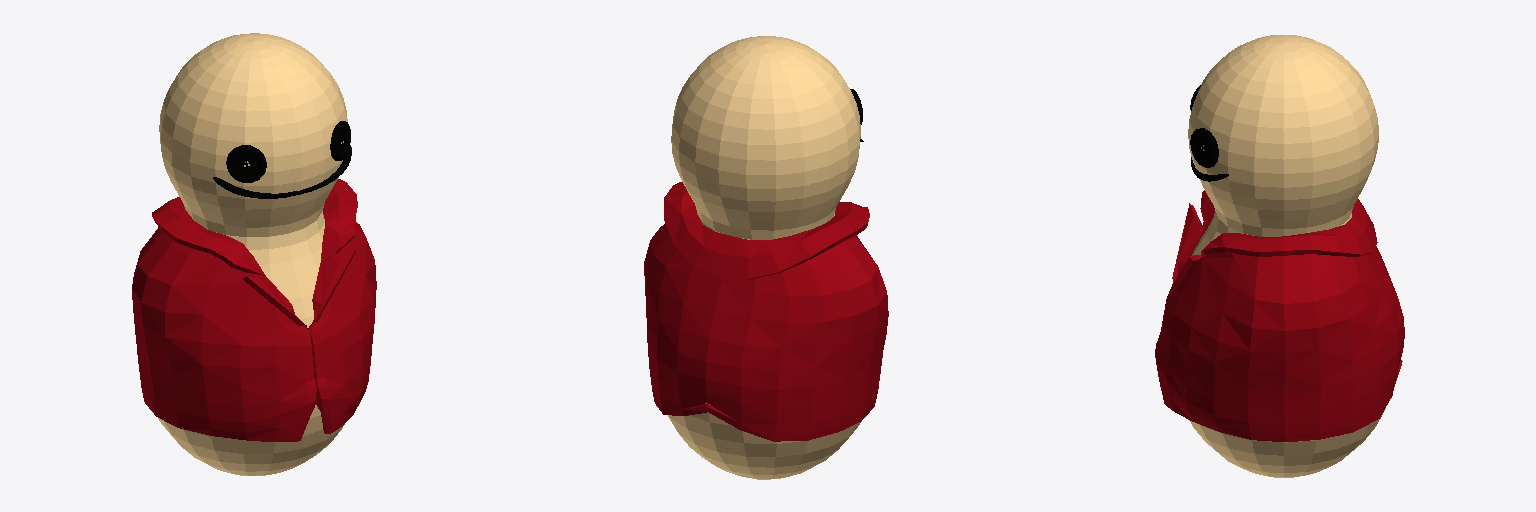
Rendered from suit-red.obj.
The picture shows the model from 3 angles: view 1: azimuth 30°, elevation 25°; view 2: azimuth 150°, elevation 25°; view 3: azimuth 270°, elevation 25°; orthographic projection.
Visible parts, largest first — view 1: suit_Sphere.001, agent.001_Sphere.000; view 2: suit_Sphere.001, agent.001_Sphere.000; view 3: suit_Sphere.001, agent.001_Sphere.000.
Part boxes in pixels (left/top/right/bottom): suit_Sphere.001: left=132, top=179, right=376, bottom=441; agent.001_Sphere.000: left=158, top=33, right=351, bottom=475; suit_Sphere.001: left=644, top=182, right=888, bottom=441; agent.001_Sphere.000: left=668, top=36, right=863, bottom=479; suit_Sphere.001: left=1155, top=190, right=1404, bottom=441; agent.001_Sphere.000: left=1188, top=35, right=1385, bottom=477.
Size of the model in its own units: 1.07 by 1.95 by 1.04.